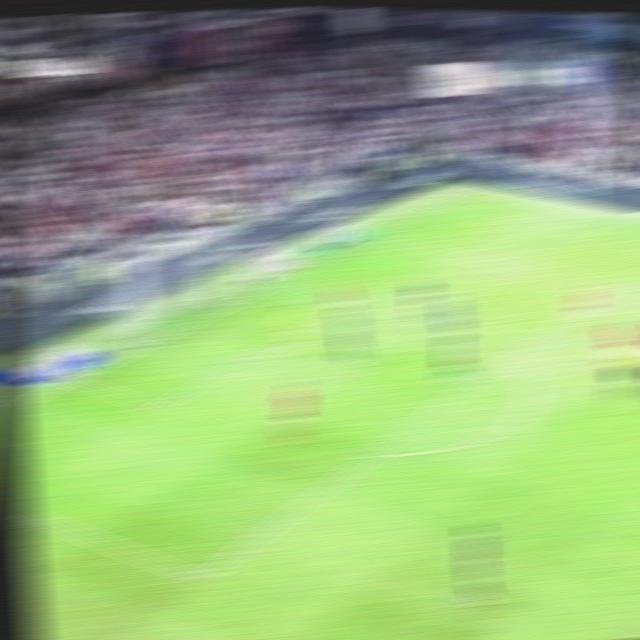bigarea_bottom_inner: (181, 560, 221, 592)
bigarea_top_inner: (591, 277, 626, 300)
bigarea_top_outter: (356, 227, 389, 244)
bottom_arc_area_intersection: (354, 439, 391, 468)
corner: (451, 183, 486, 197)
smallarea_bottom_inner: (139, 390, 175, 420)
smallarea_bottom_outter: (55, 369, 87, 389)
smallarea_top_inner: (337, 291, 367, 309)
smallarea_top_outter: (260, 270, 296, 292)
top_arc_area_intersection: (495, 341, 532, 368)
